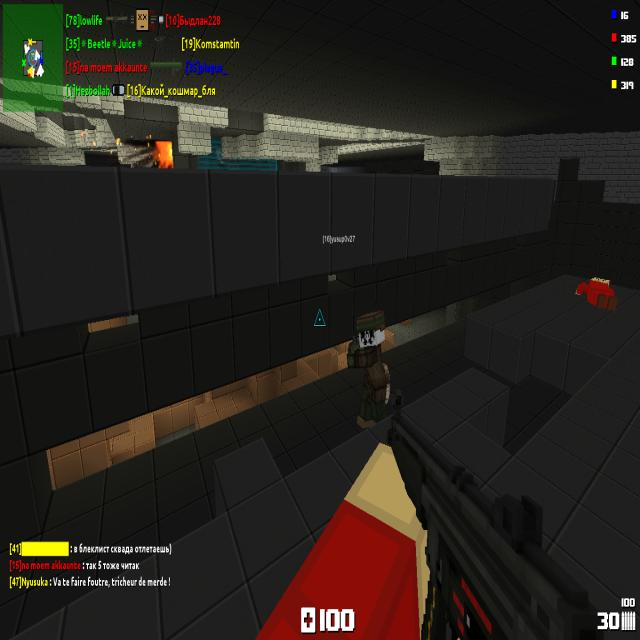enemy: (349, 312, 390, 434)
